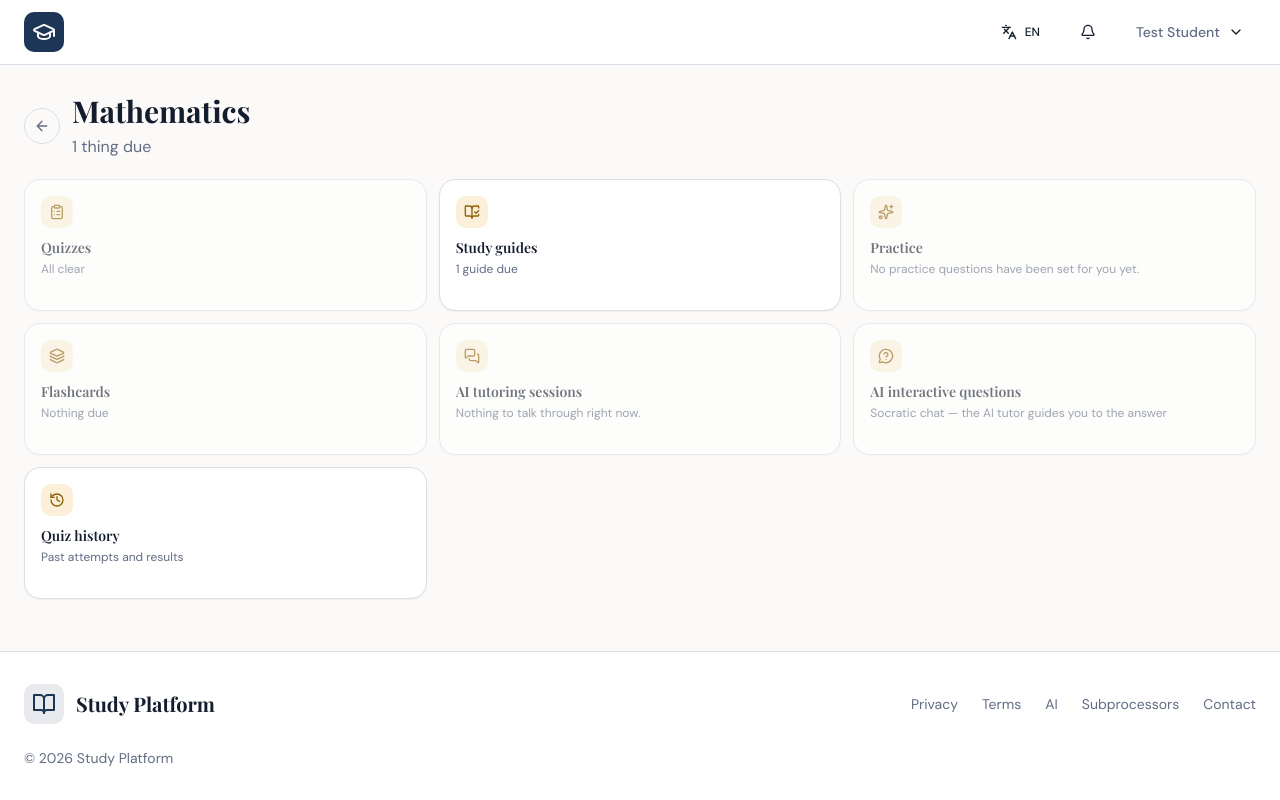
Test: StudentCourse study guides › keeps the guide out of the quizzes list
Step 1. Click the button with test id "launcher-quizzes" → (57, 212), box [24, 179, 427, 311]
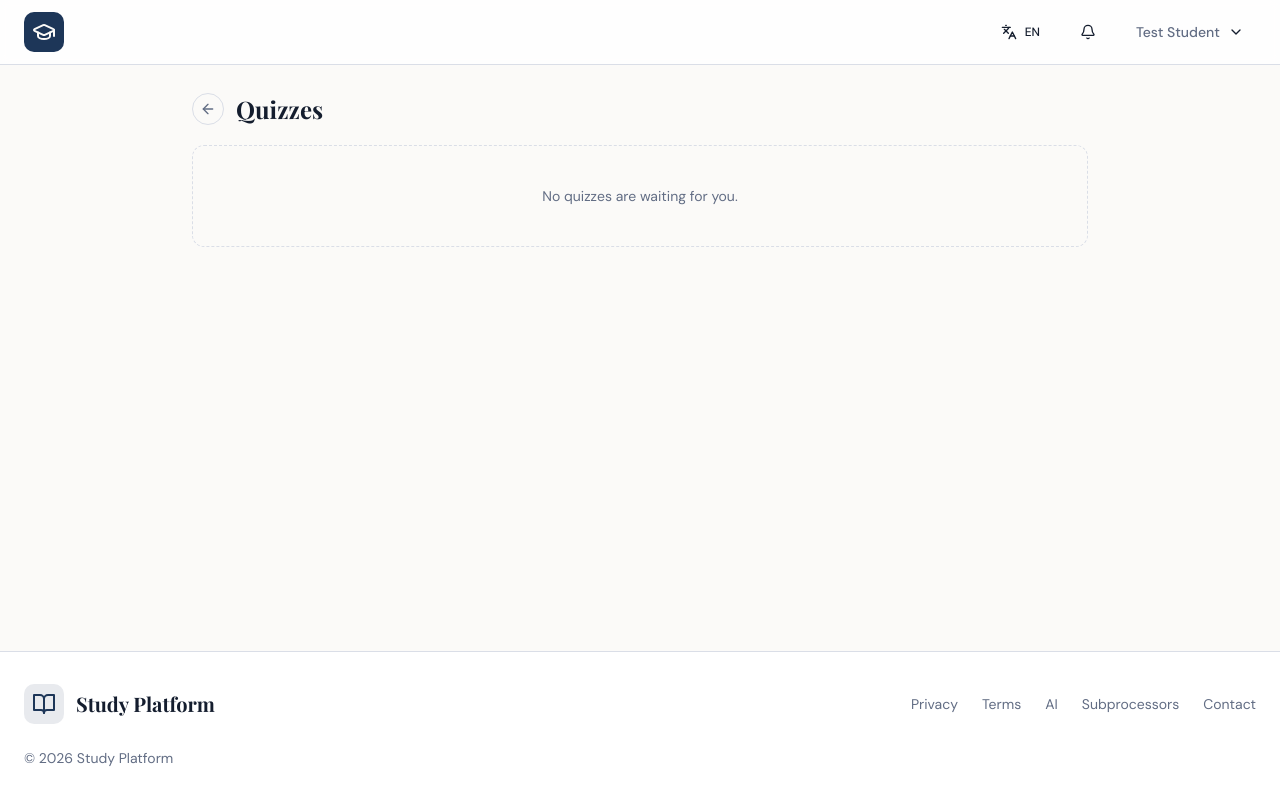
Result: the text "No quizzes are waiting for you." is shown at [192, 145, 1088, 247]
